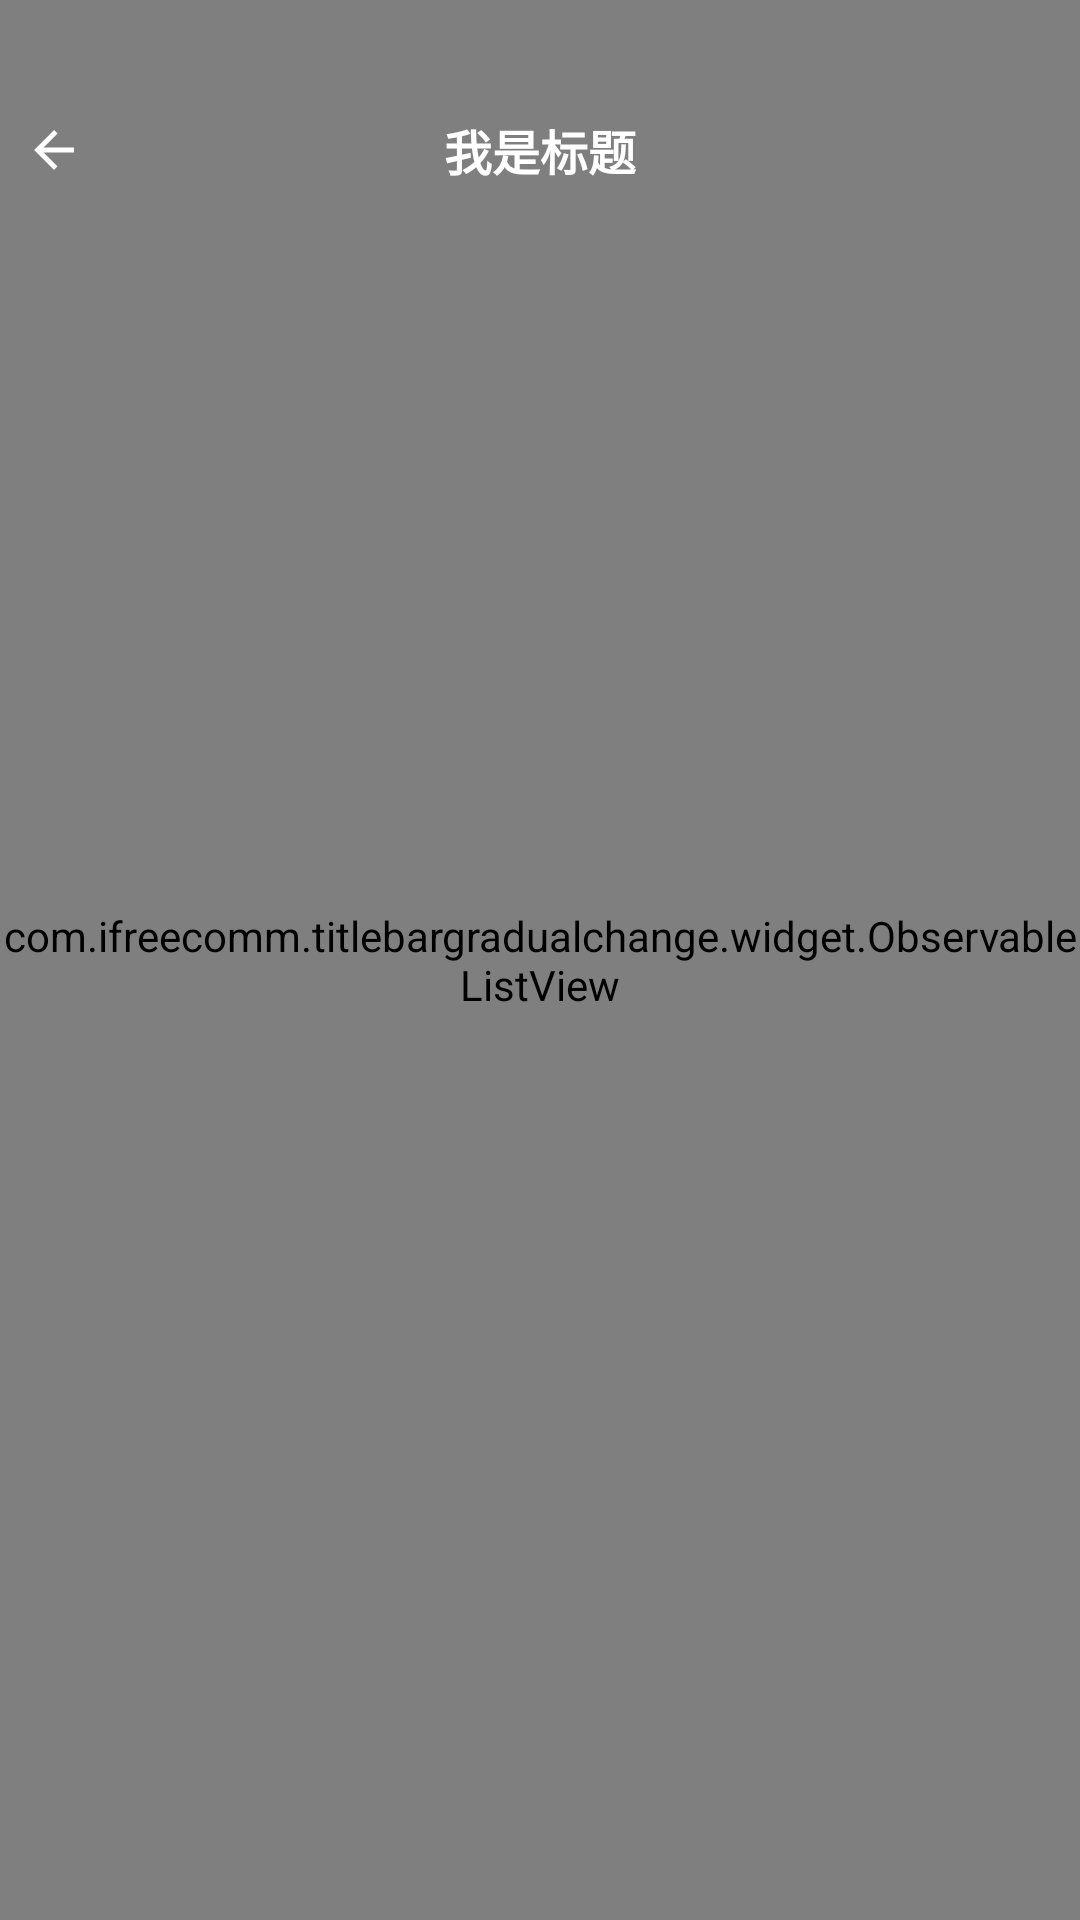

Where to tap for icons on this 1080*1920 app screen, as (x,y):
back: (54,150)
